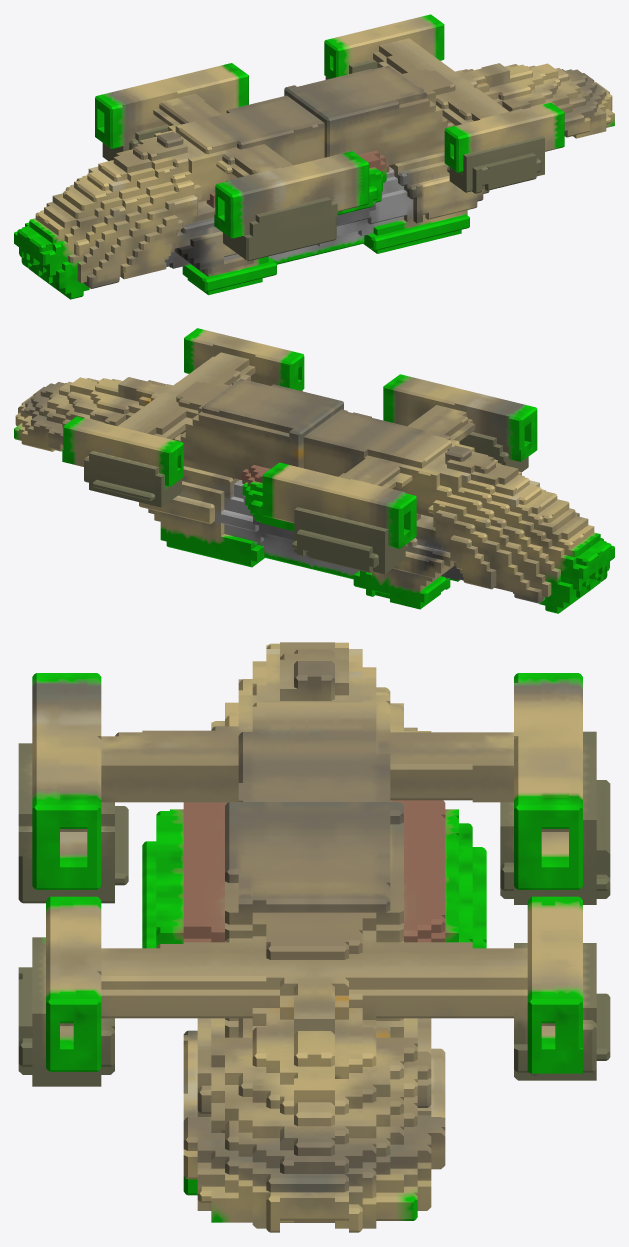
File: dropship.glb
3 renders of one model, top to bottom at view 1: azimuth 30°, elevation 25°; view 2: azimuth 150°, elevation 25°; view 3: azimuth 270°, elevation 25°, orthographic. The views are drawn at different scales.
Visible parts, largest first — view 1: hull_dummy01; view 2: hull_dummy01; view 3: hull_dummy01.
Part boxes in pixels (x1=…): hull_dummy01: x1=14, y1=14, x2=614, y2=299; hull_dummy01: x1=14, y1=328, x2=614, y2=613; hull_dummy01: x1=18, y1=642, x2=610, y2=1232.
Bounding box in the file's own units: 4.69 × 1.09 × 2.1.
